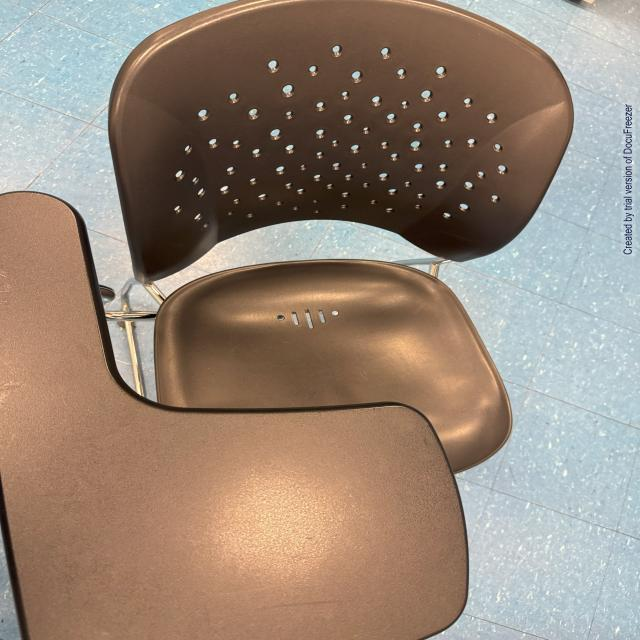chair: (1, 0, 570, 640)
